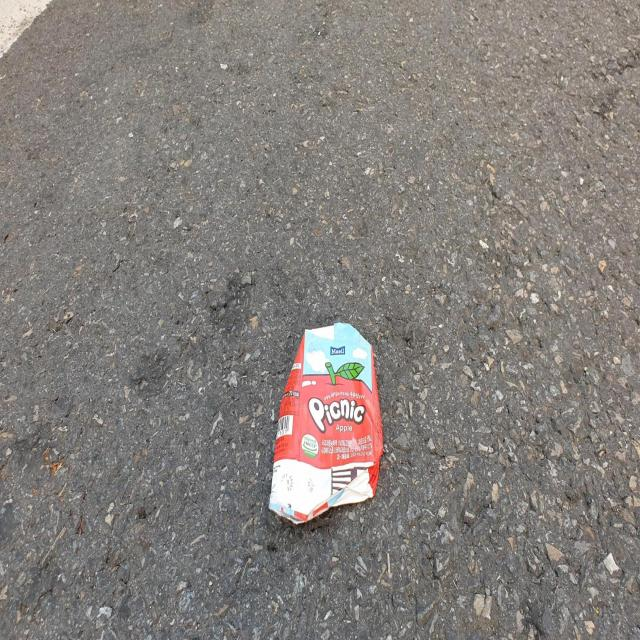paperpack: (269, 322, 384, 524)
